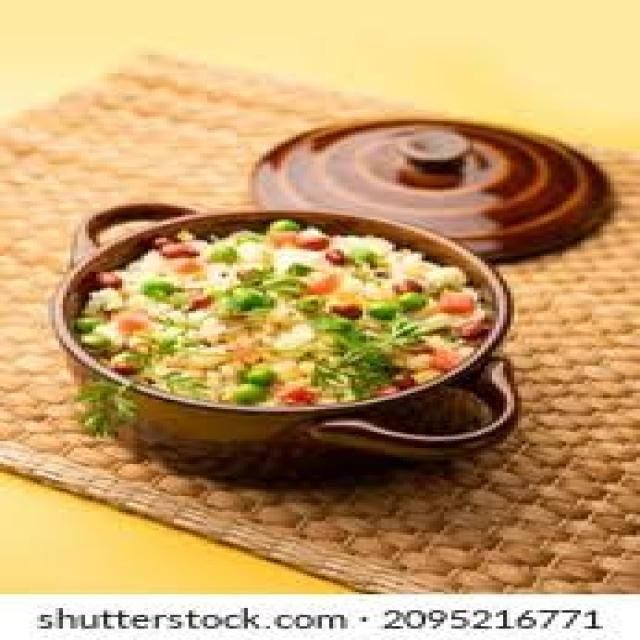POHA: (78, 222, 485, 400)
